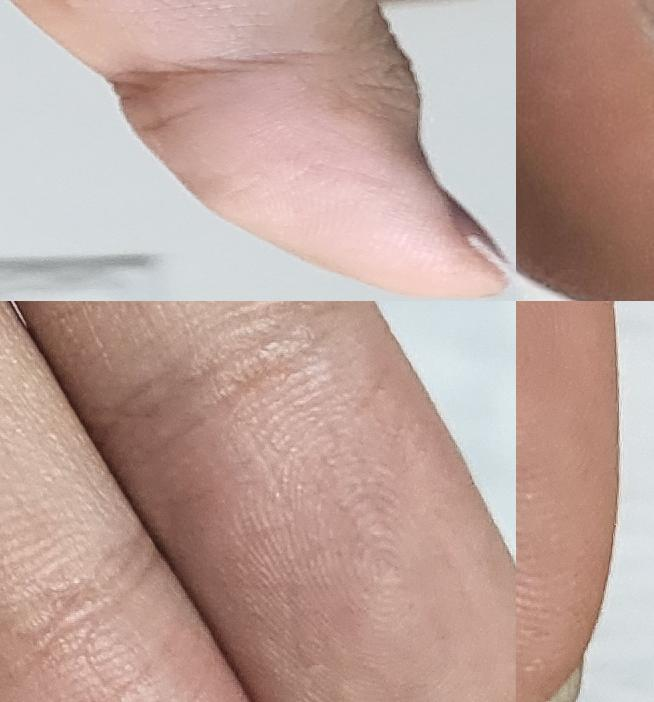Fingerprints: (114, 301, 516, 702), (119, 61, 504, 298), (516, 301, 621, 702), (516, 0, 654, 301)
